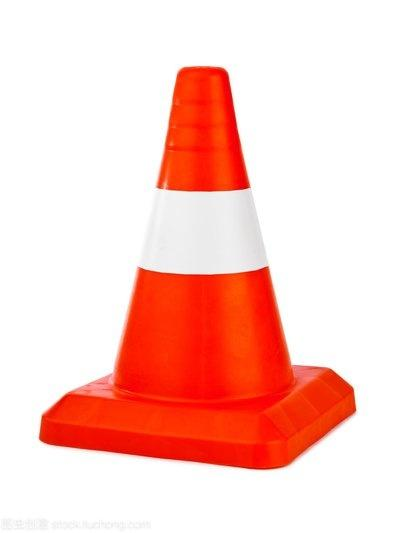cone_barrel: (101, 69, 311, 429)
